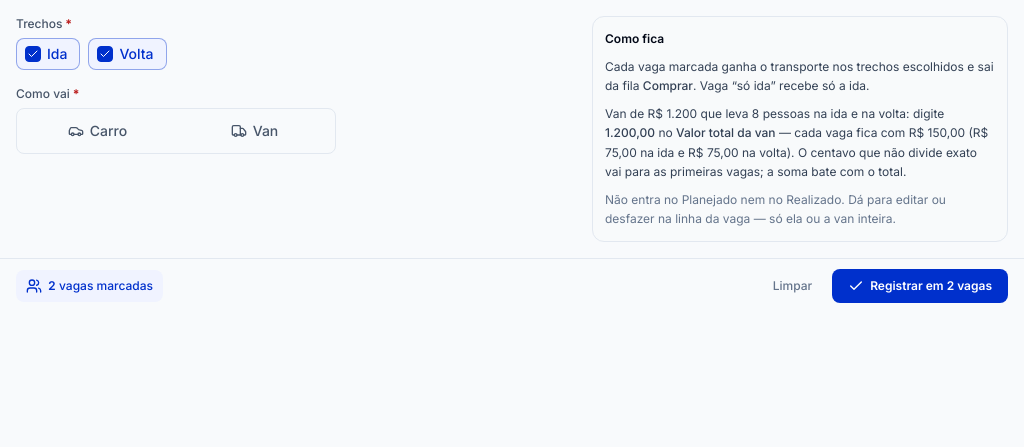
Test case: Lote 'Carro / van' (revisão 16/10) › nenhuma vaga marcada tem o trecho escolhido: erro no formulário, sem confirmação com 'R$ ∞'
The image size is (1024, 447).
Click the radio button with test id "lote-terrestre-modo-carro".
click(98, 131)  # box [21,113,174,149]
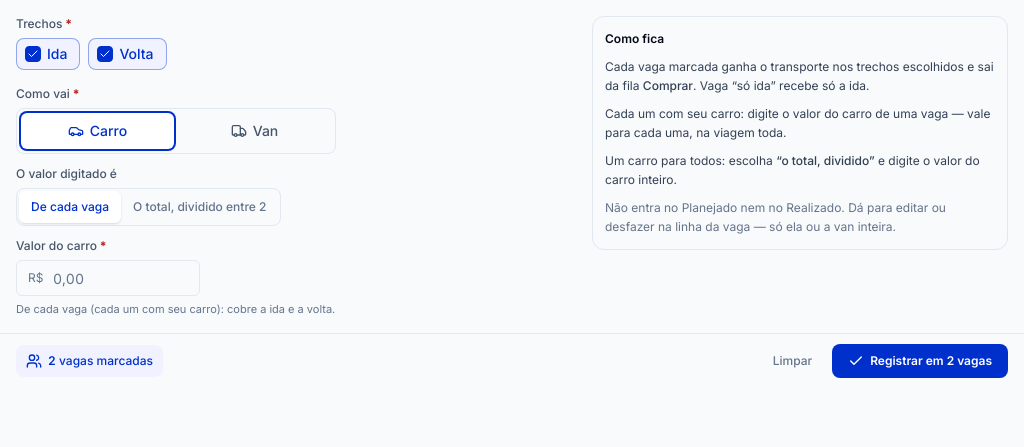
Type "100,00" into the field with test id "lote-terrestre-valor".
click(108, 278); type("100,00")  # box [16,260,200,296]
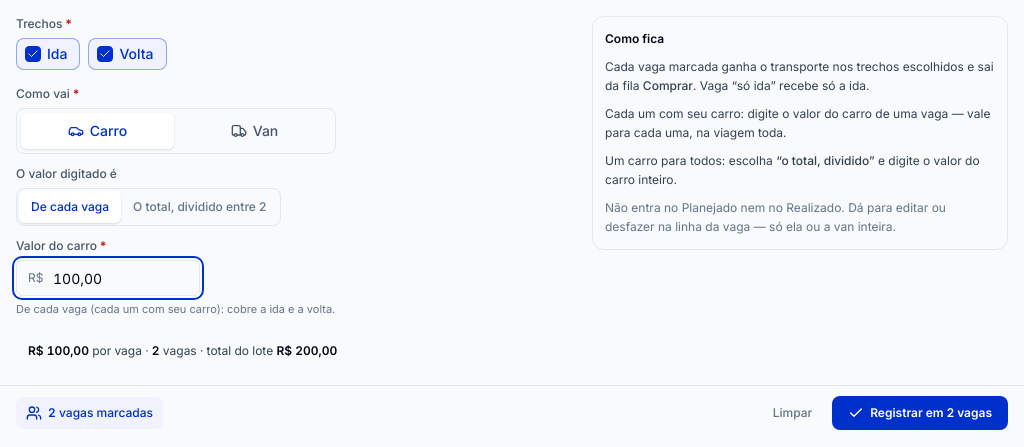
Click the button with test id "lote-terrestre-perna-volta".
click(127, 54)  # box [88,38,166,70]
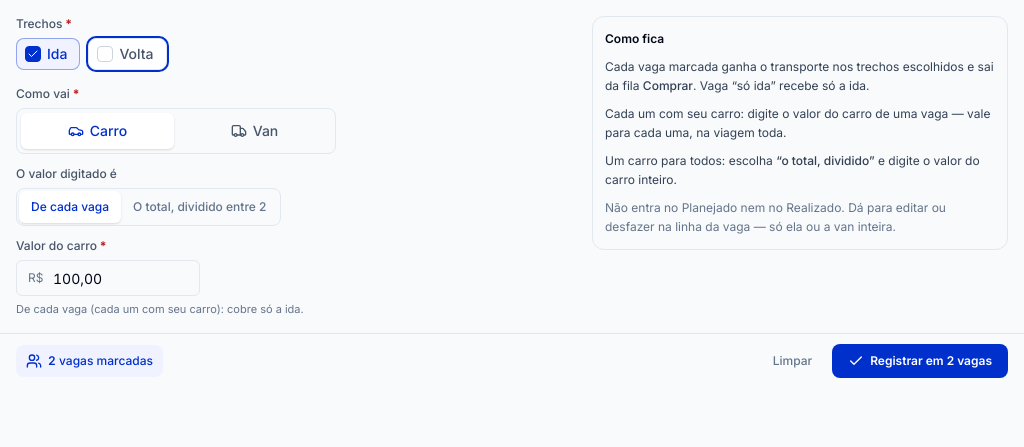
Click the button with test id "lote-terrestre-aplicar".
click(920, 361)  # box [832,344,1008,378]
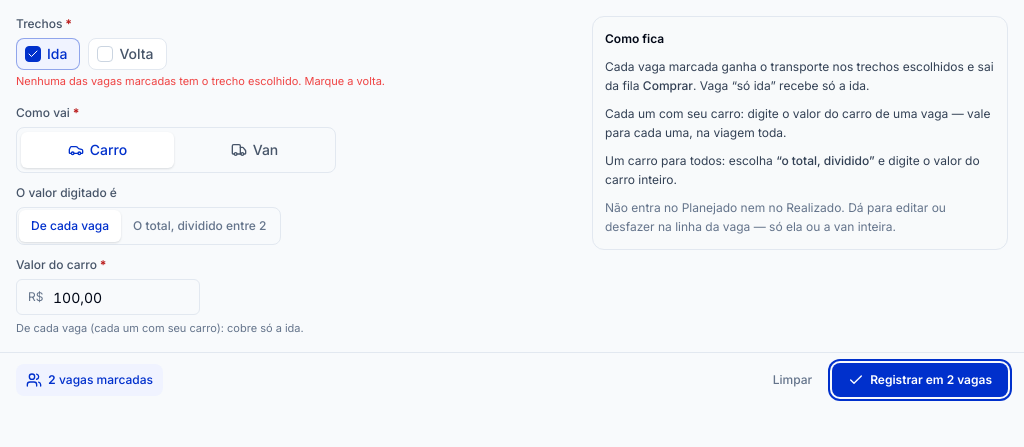
Result: the text "Nenhuma das vagas marcadas tem o trecho escolhido. Marque a volta." is shown at [16,74,385,88]
